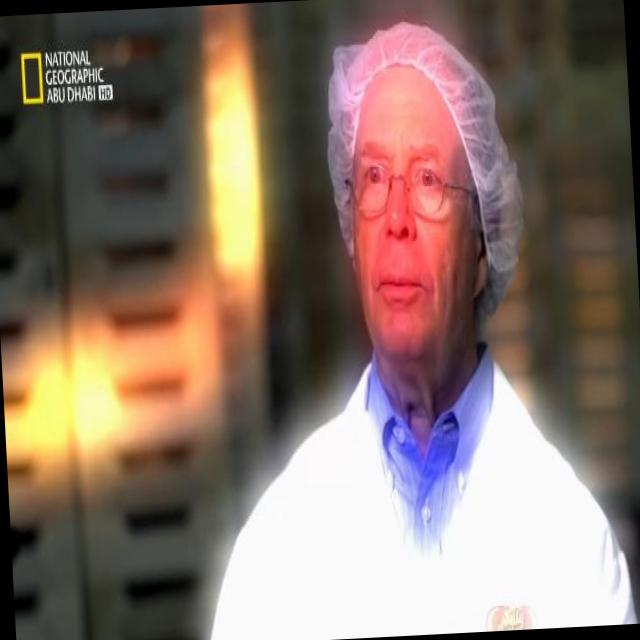hairnet: (318, 13, 523, 144)
